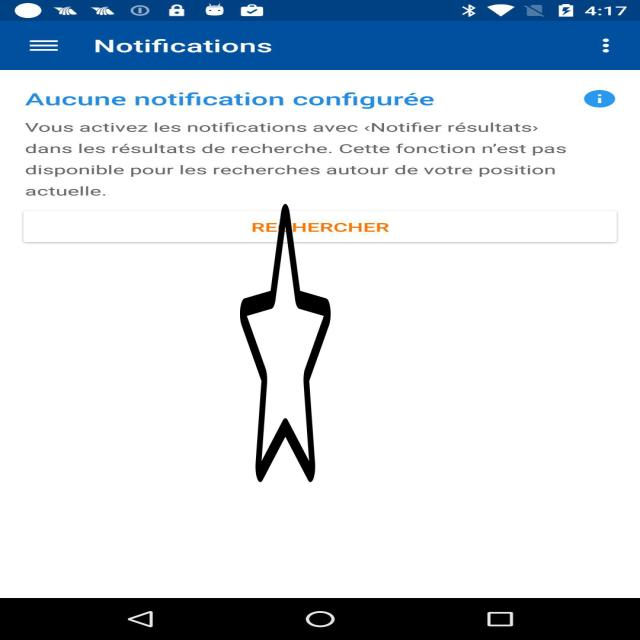forced continuity: (240, 198, 331, 488)
